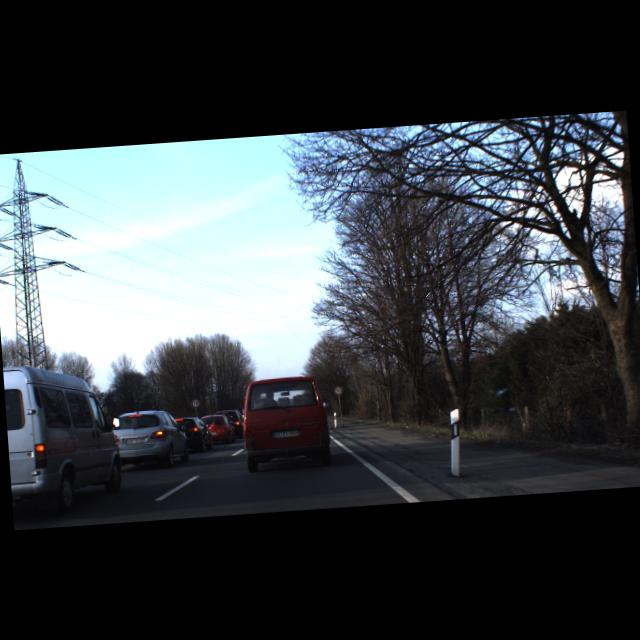prohibitory: (332, 384, 343, 396), (189, 398, 200, 408)
